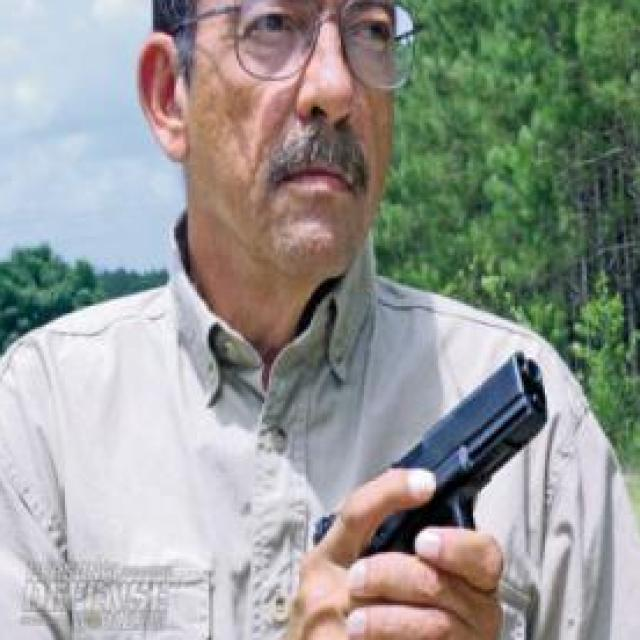pistol: (346, 350, 546, 576)
